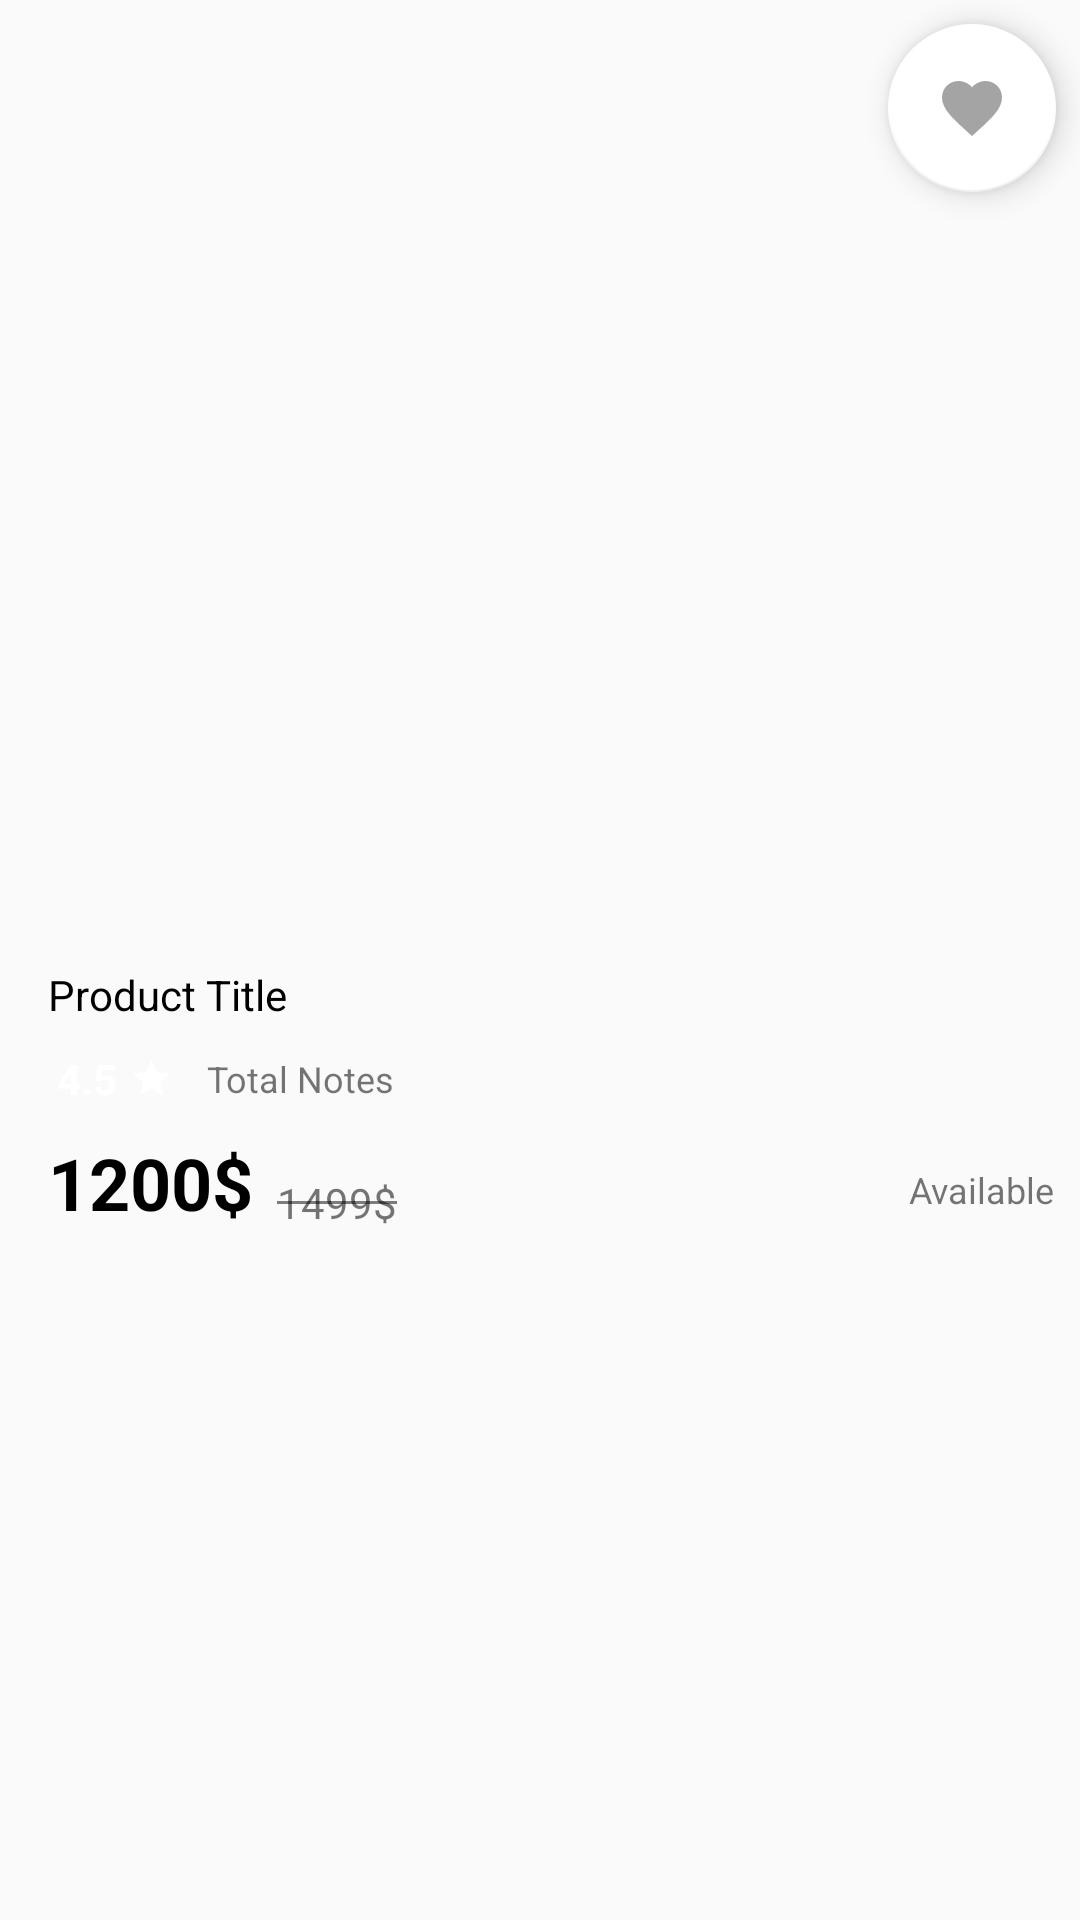

Named icons in this screenshot (1080px×1920px) and their bounding boxes, (x1, y1, x2, y2):
wishlist: (888, 24, 1056, 192)
